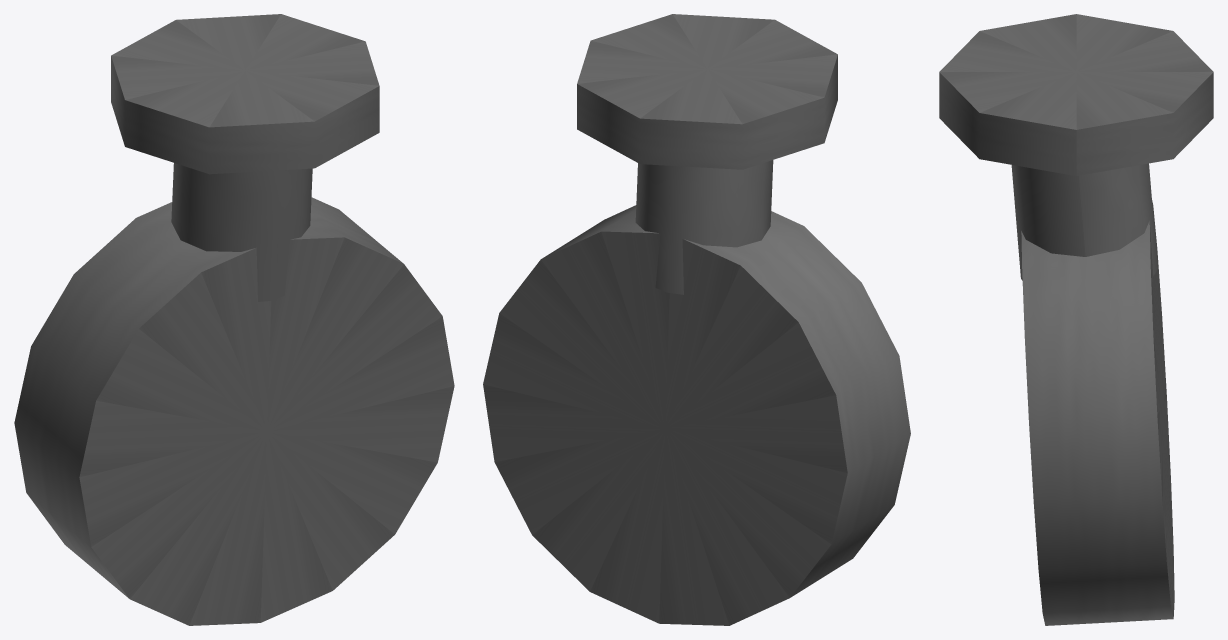
File: mastarmcurve_10x2_c10_up.obj
The picture shows the model from 3 angles, left to right: view 1: azimuth 30°, elevation 25°; view 2: azimuth 150°, elevation 25°; view 3: azimuth 270°, elevation 25°; orthographic projection. The views are drawn at different scales.
Parts seen in each view (by area): view 1: mastarm_10x2_c10_up; view 2: mastarm_10x2_c10_up; view 3: mastarm_10x2_c10_up.
Part boxes in pixels (x1,y1,x2,y2): mastarm_10x2_c10_up: (14, 14, 454, 625); mastarm_10x2_c10_up: (483, 14, 910, 625); mastarm_10x2_c10_up: (939, 14, 1213, 625).
Bounding box in the file's own units: 0.6235 × 0.8592 × 0.4.
